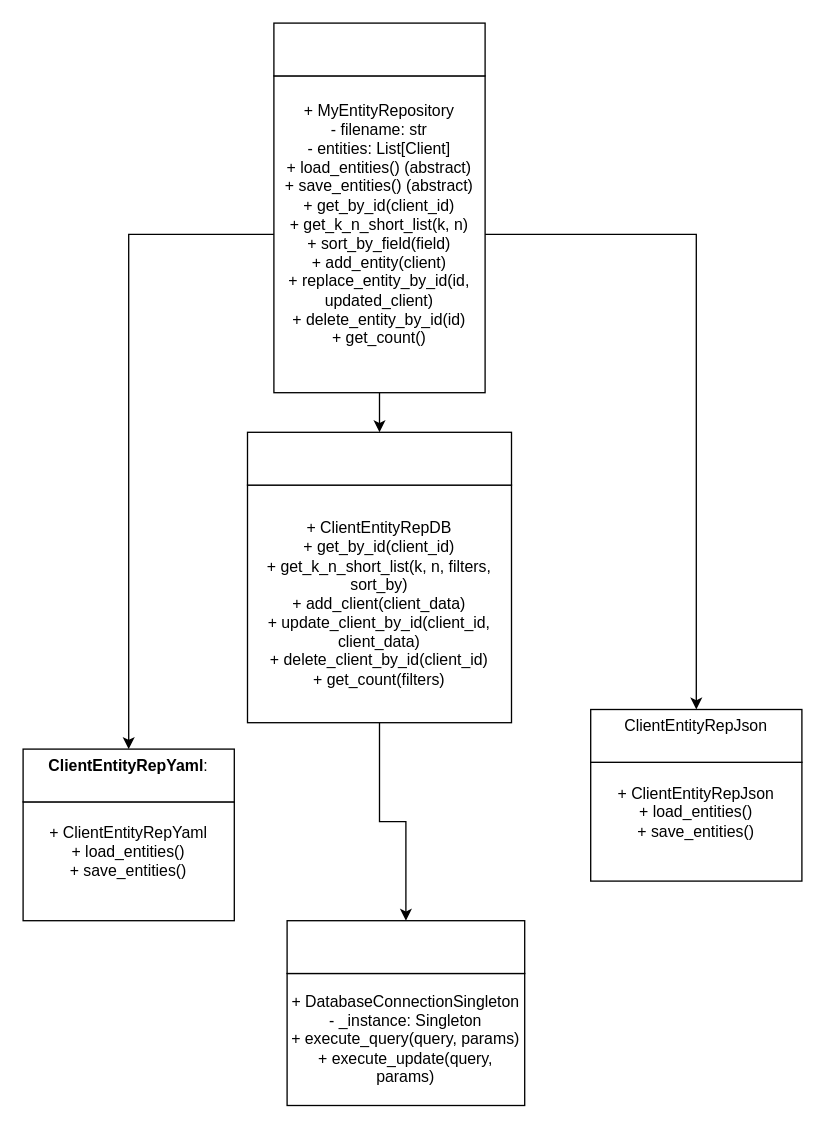
The diagram is 825 pixels wide and 1129 high, and some of its shapes have lost their labels. The shapes that lost their labels are listed below. From the top down, each one's centre as x and y in pixels, then its label:
At point (379, 49): "MyEntityRepository".
At point (379, 458): "ClientEntityRepDB :".
At point (405, 946): "DatabaseConnectionSingleton :".
